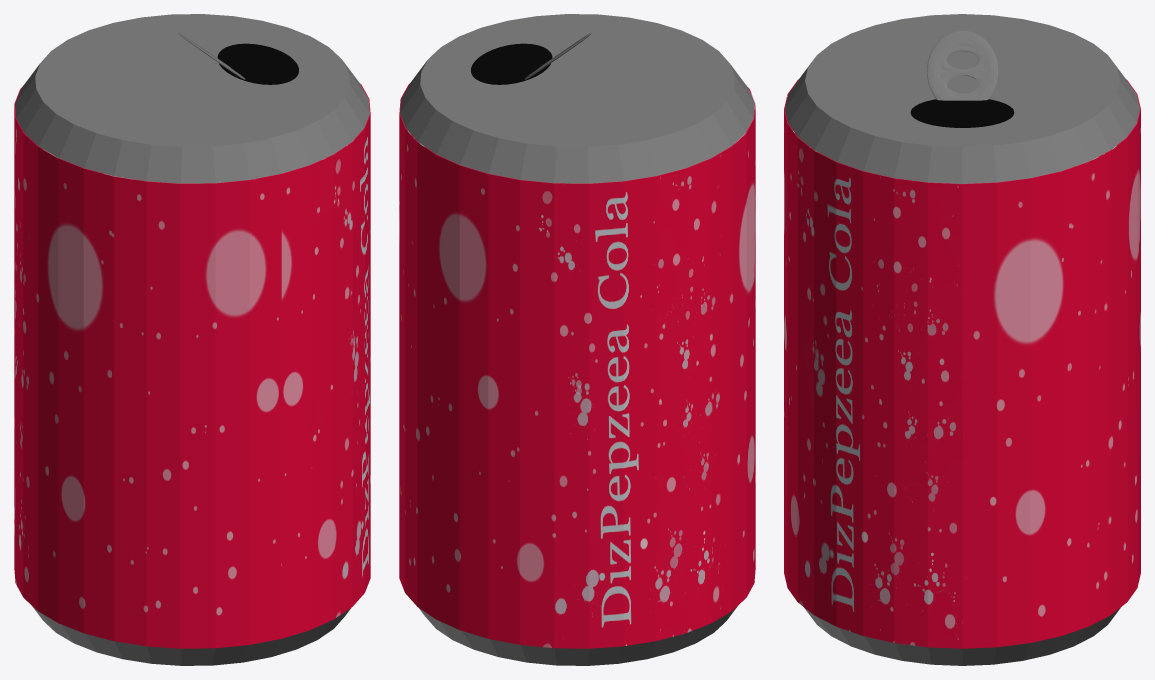
File: sodacan.fbx
3 renders of one model, left to right at view 1: azimuth 30°, elevation 25°; view 2: azimuth 150°, elevation 25°; view 3: azimuth 270°, elevation 25°, orthographic.
Parts seen in each view (by area): view 1: Cylinder; view 2: Cylinder; view 3: Cylinder.
Boxes of the visible parts, left/top/right/bottom form: Cylinder: left=14, top=14, right=370, bottom=665; Cylinder: left=399, top=14, right=755, bottom=665; Cylinder: left=784, top=14, right=1140, bottom=665.
Size of the model in its own units: 22.66 by 39.54 by 22.66.
